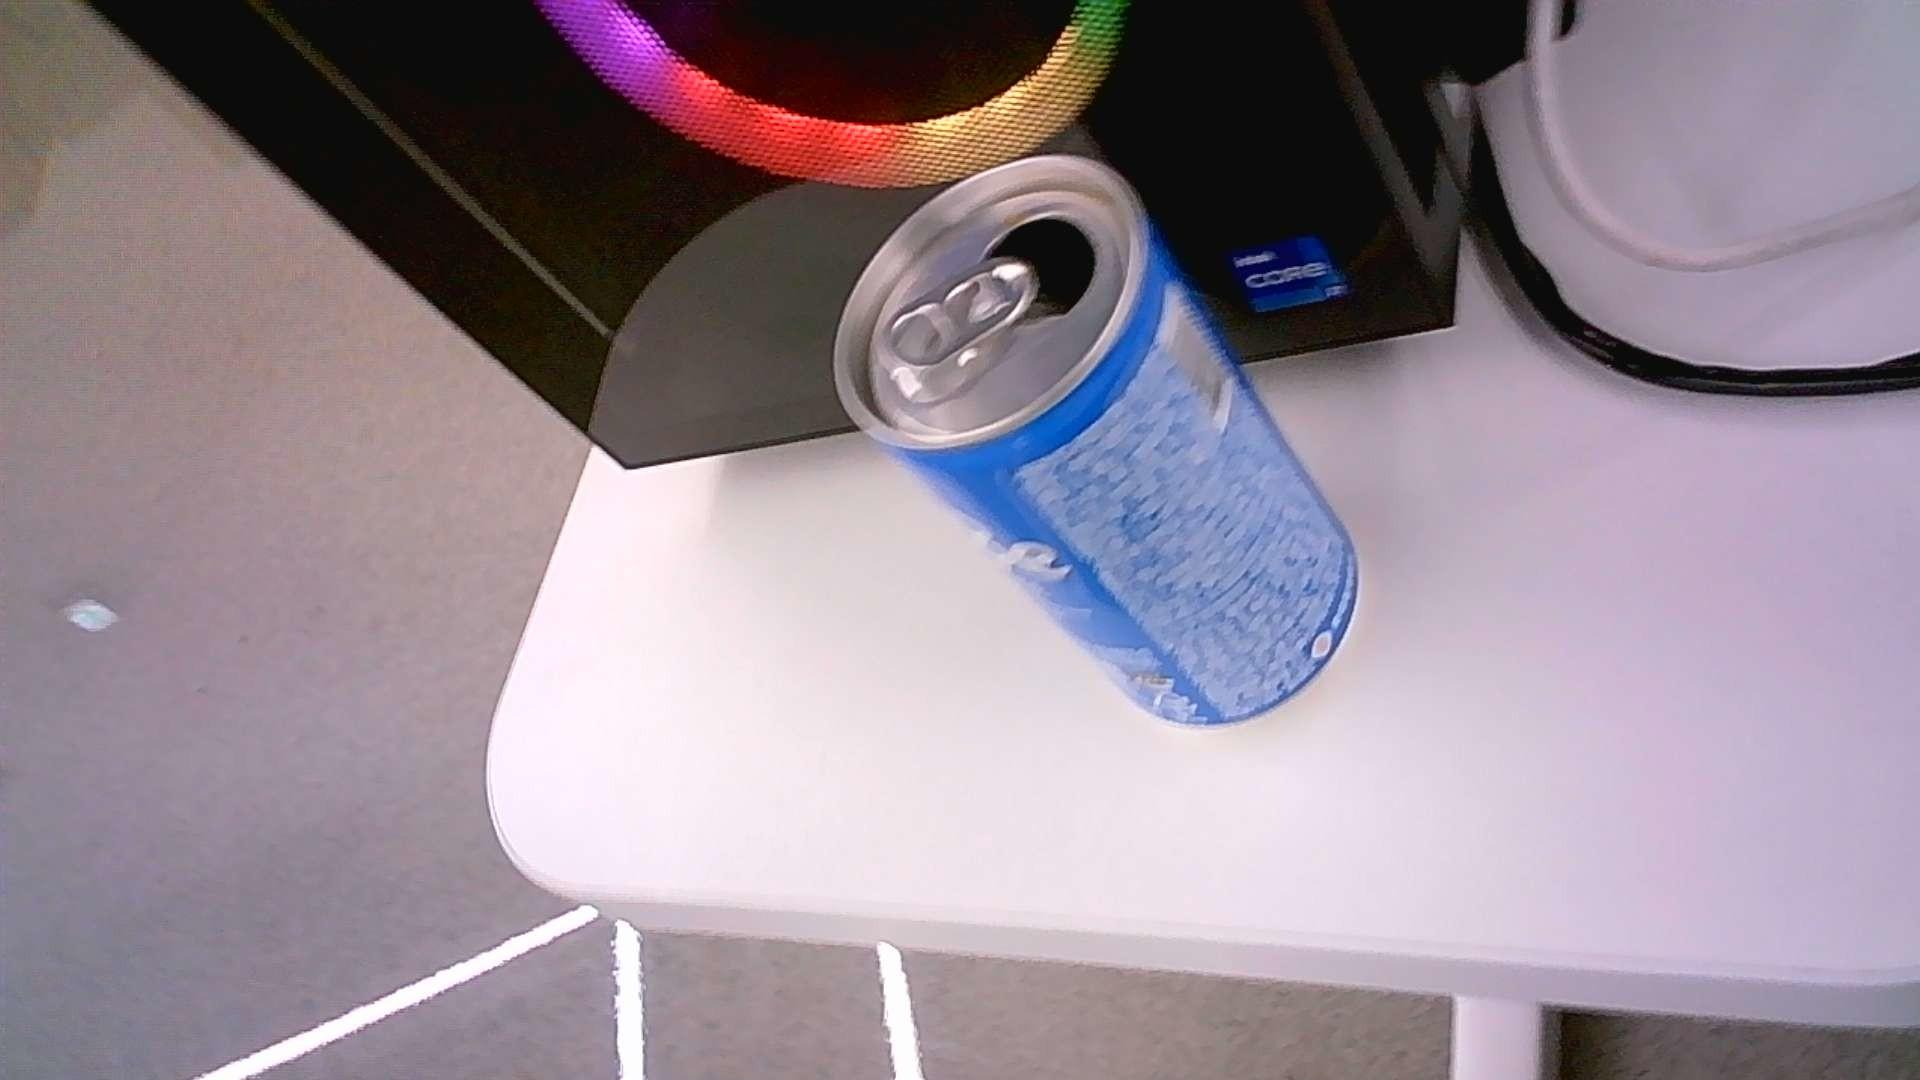letsbe: (833, 154, 1362, 727)
